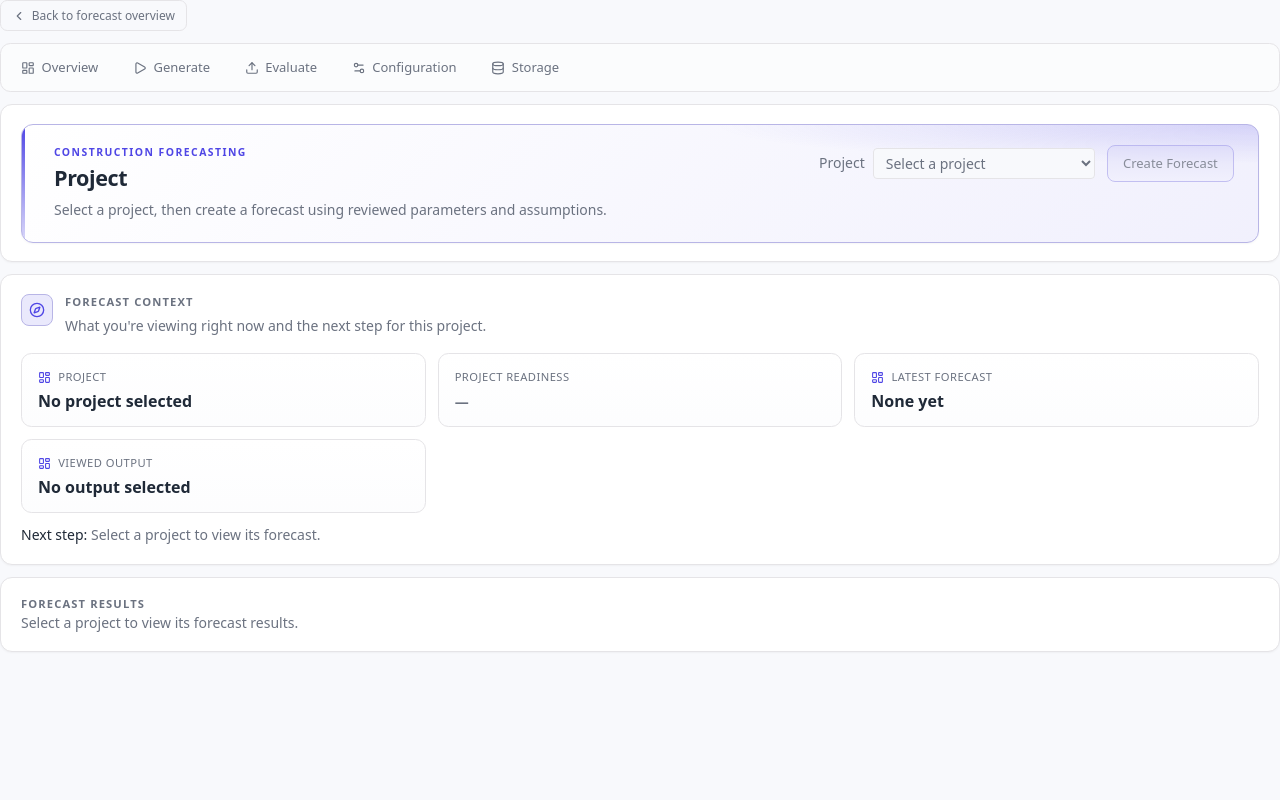
Test case: ForecastRunCenterPage layout + Create Forecast modal › closes on Cancel without generating
Select "Tropical Resort" in the dropdown named "Forecast project": (984, 163) [873,148,1095,179]
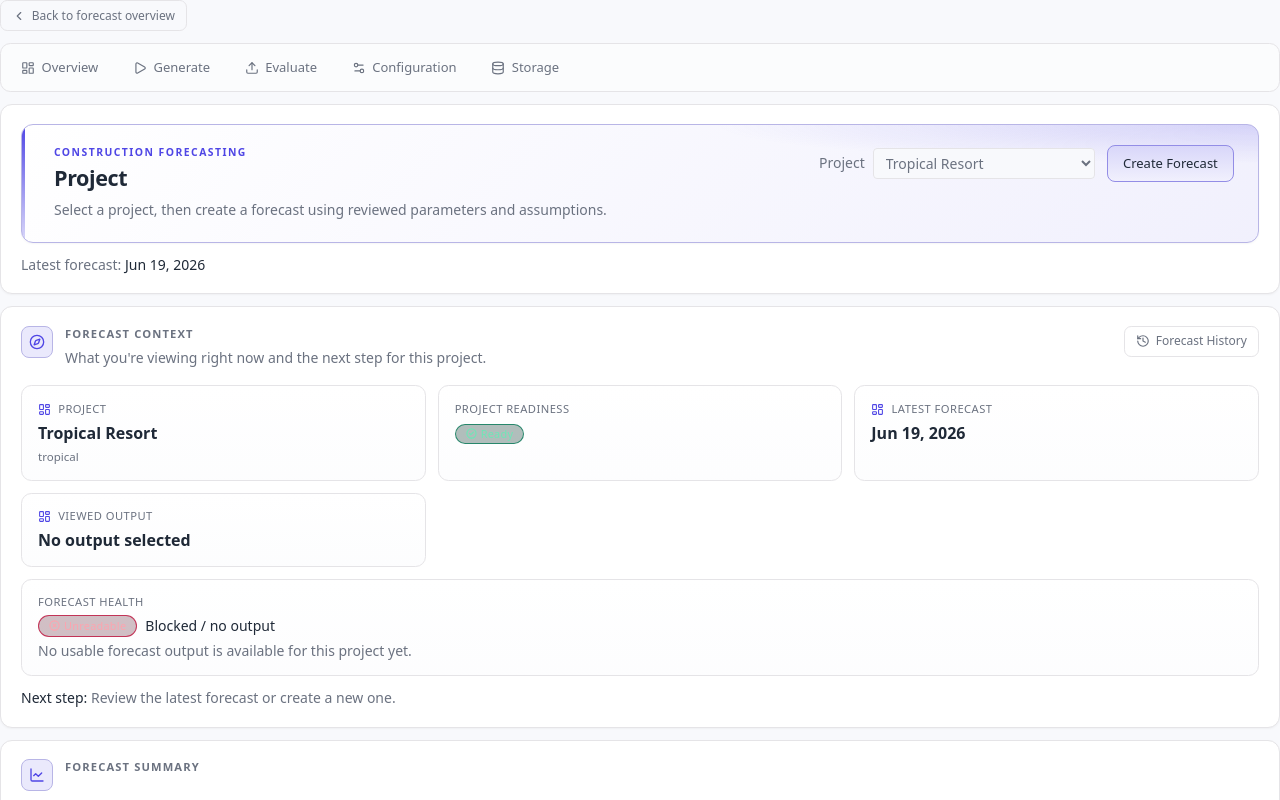
Click the button "Create Forecast": (1170, 163) [1107,145,1234,182]
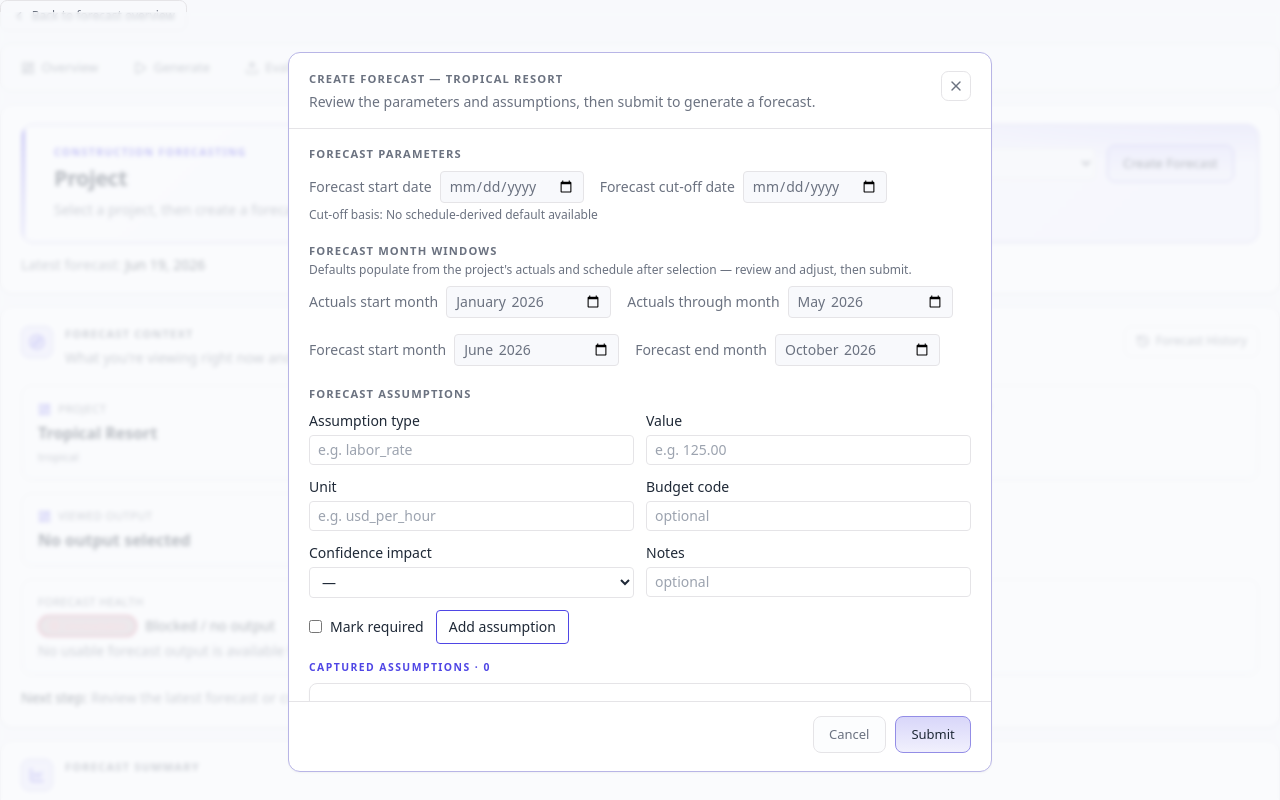
Click the button "Cancel": (849, 735) [813,716,886,753]
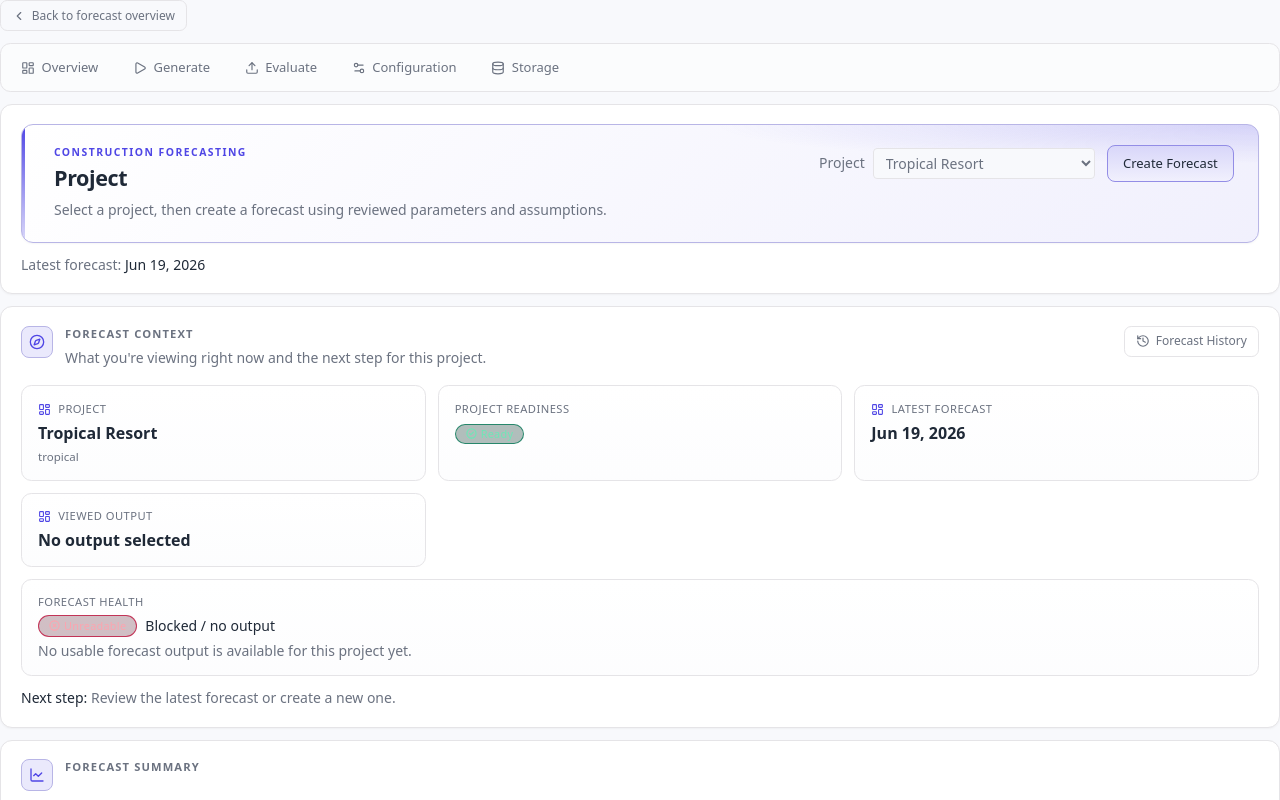
Now the dialog is gone
